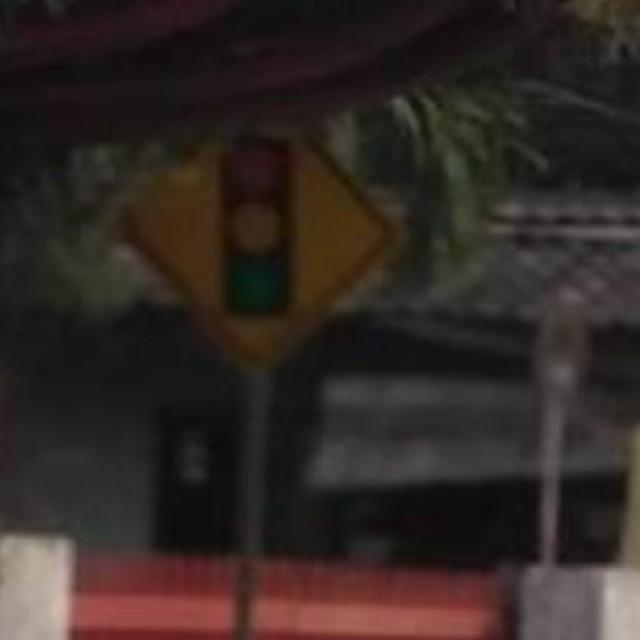traffic sign: (135, 131, 374, 353)
